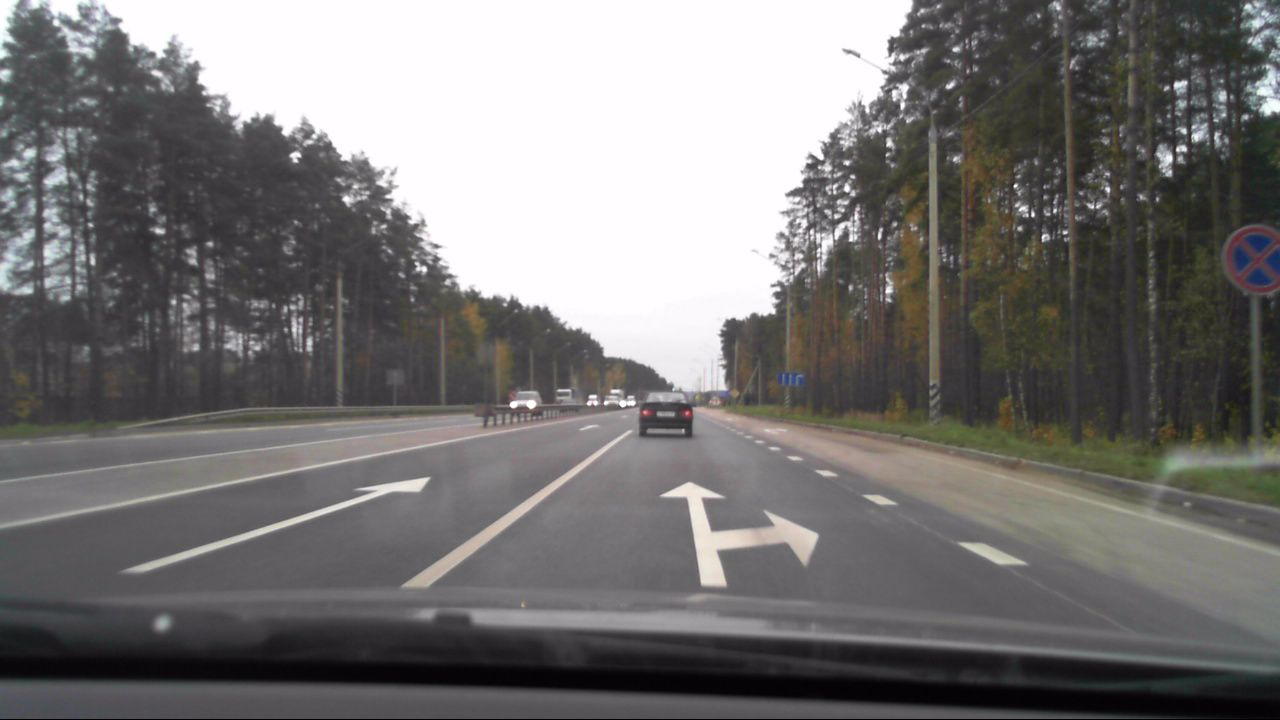No Parking: (1219, 223, 1279, 301)
